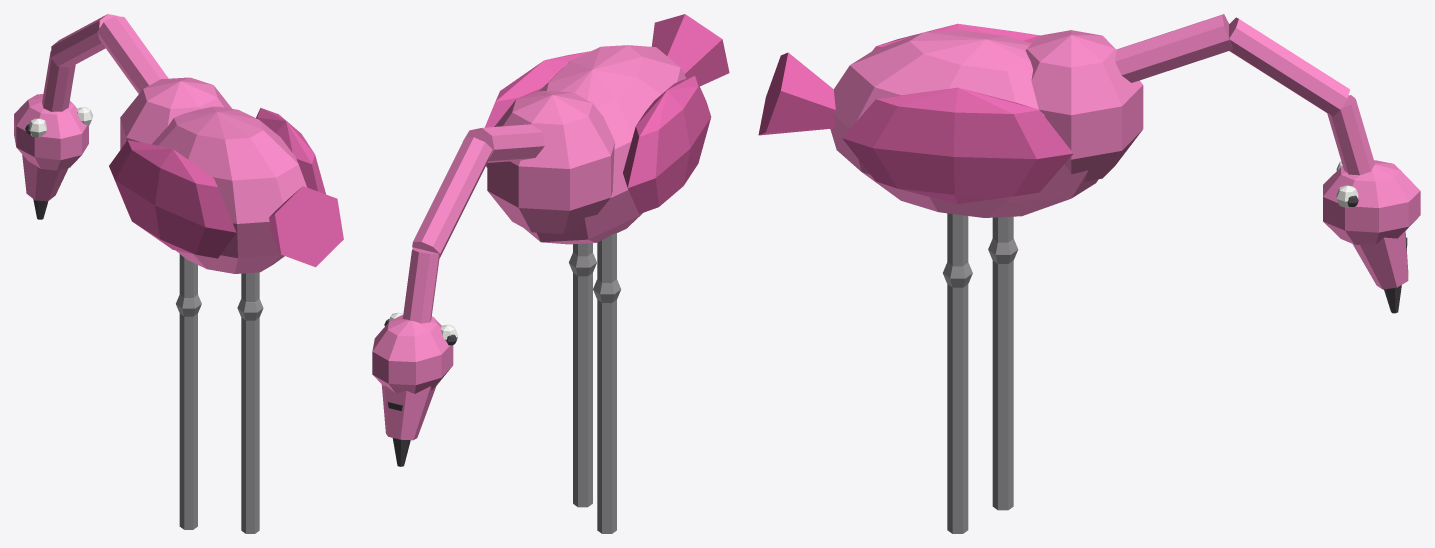
File: flamingo_feed.glb
3 views of the same model, side by side, from view 1: azimuth 30°, elevation 25°; view 2: azimuth 150°, elevation 25°; view 3: azimuth 270°, elevation 25° (orthographic). The views are drawn at different scales.
Parts seen in each view (by area): view 1: flamingo_feed; view 2: flamingo_feed; view 3: flamingo_feed.
Part boxes in pixels (x1,y1,x2,y2): flamingo_feed: (14,14,343,533); flamingo_feed: (372,14,729,533); flamingo_feed: (758,14,1420,533).
Bounding box in the file's own units: 0.2832 × 0.7344 × 0.8756.
